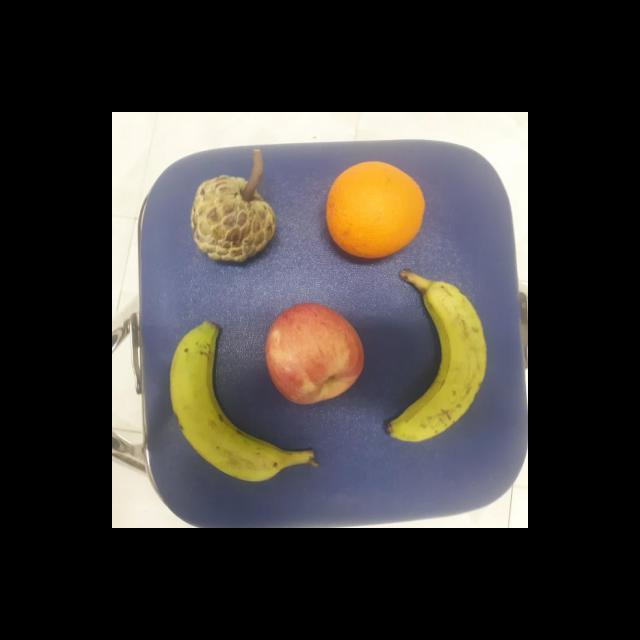Sakya fruit: (190, 174, 278, 266)
apple: (264, 300, 368, 406)
banana: (169, 319, 317, 482), (386, 270, 489, 444)
orange: (323, 158, 428, 262)
